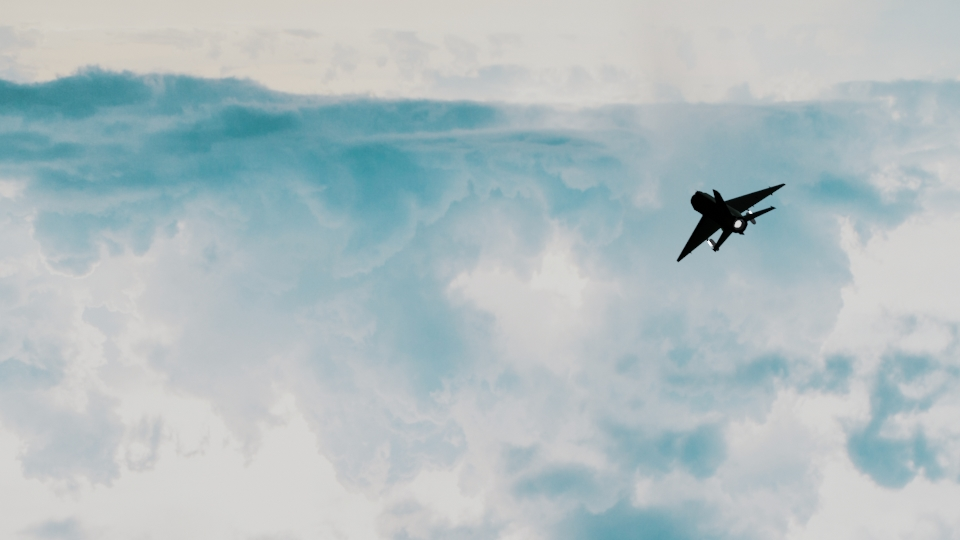plane: (670, 177, 782, 262)
